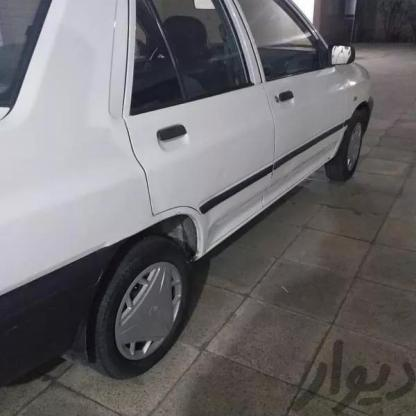Car: (0, 6, 416, 388)
